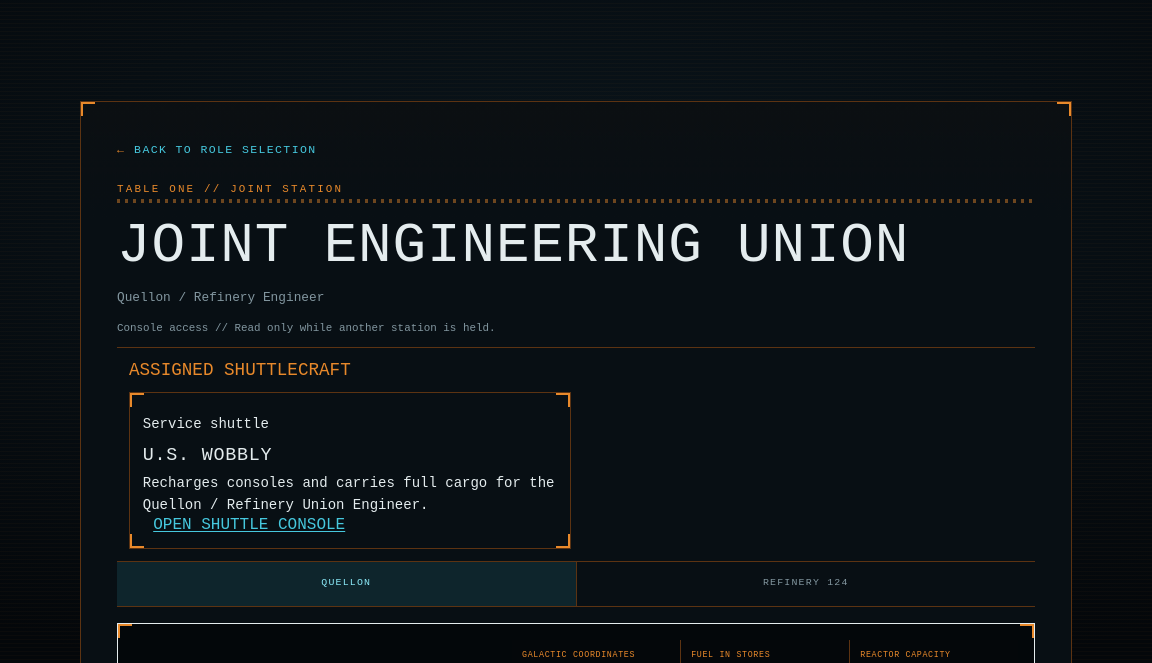
Test: switches between the assigned ships’ engineering reference systems
This screenshot has width=1152, height=663.
Click the button "Refinery 124": (806, 584) [576,562,1035,606]
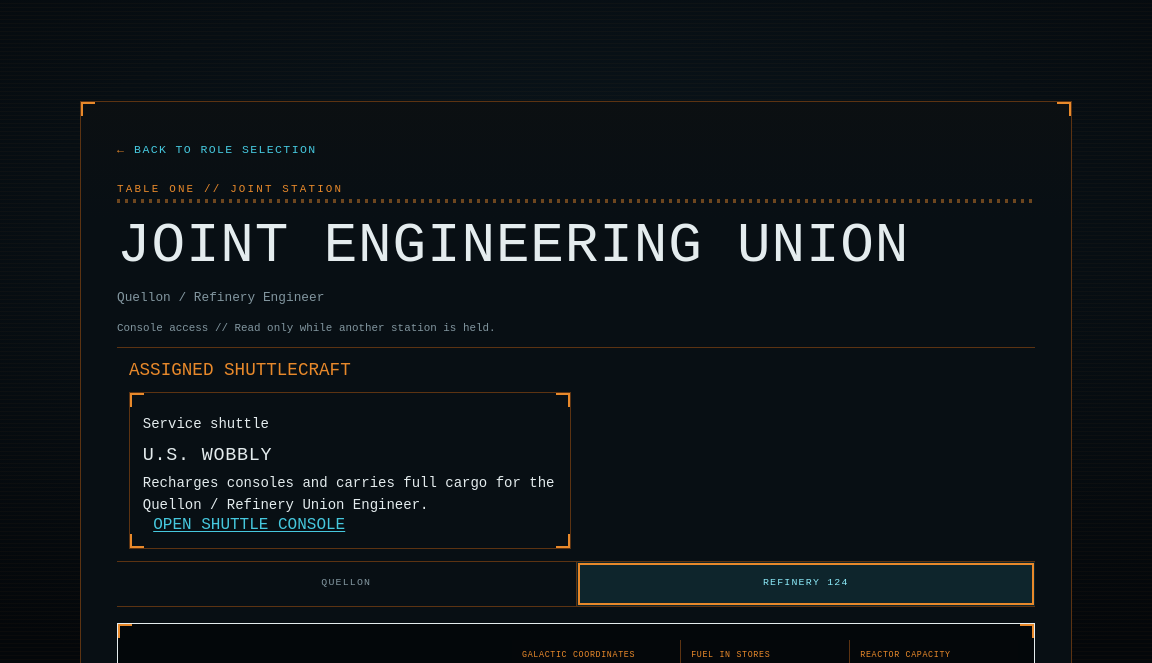
Click the button "Quellon": (347, 584) [117,562,576,606]
(page scrolled)
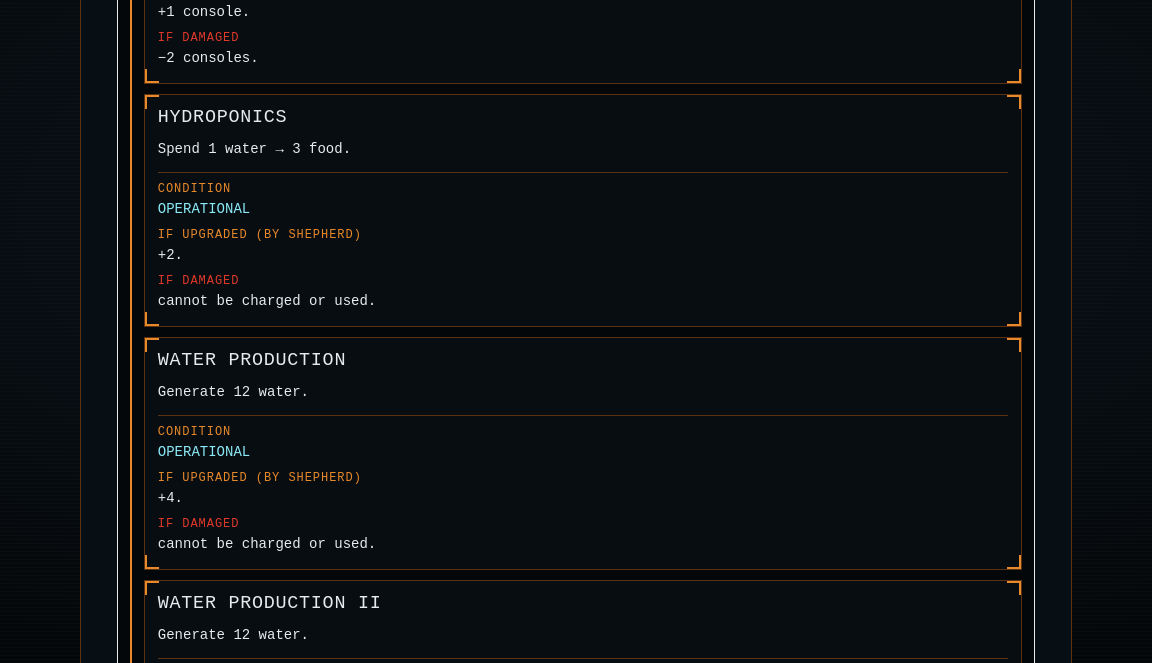
expect the heading "Water Production" is shown: met, box [158,350,346,371]
